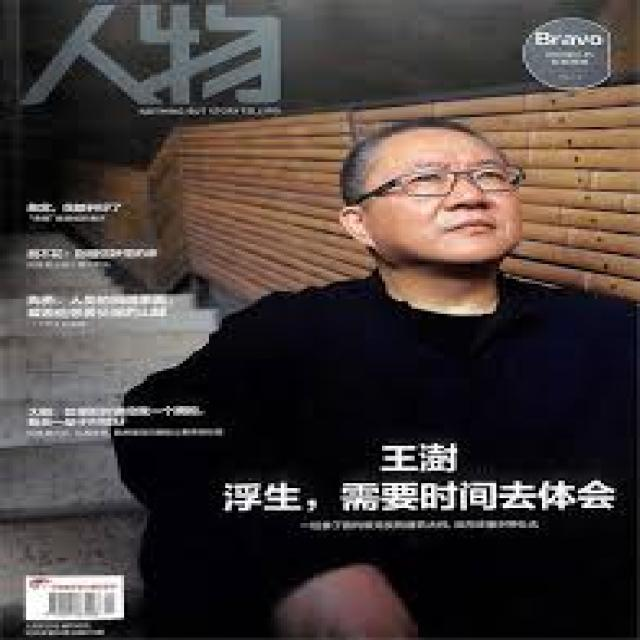paper: (26, 5, 640, 637)
